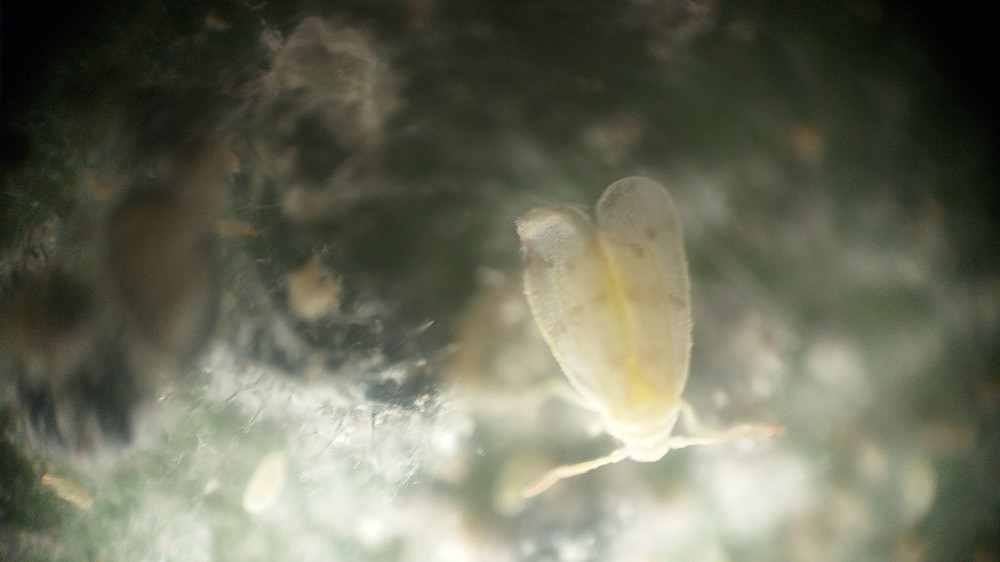Mosca Blanca: (466, 178, 800, 525)
